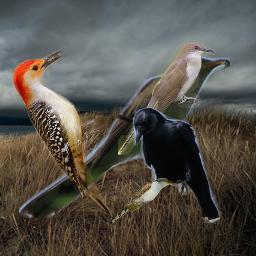Crow: (132, 107, 220, 225)
Cuckoo: (19, 53, 230, 218), (118, 42, 215, 155), (109, 177, 175, 224)
Woodpecker: (12, 50, 113, 219)
